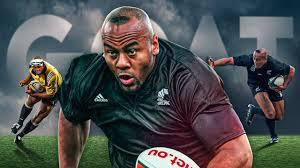ballon_rugby: (135, 147, 202, 168), (267, 74, 284, 90), (27, 80, 45, 93)
